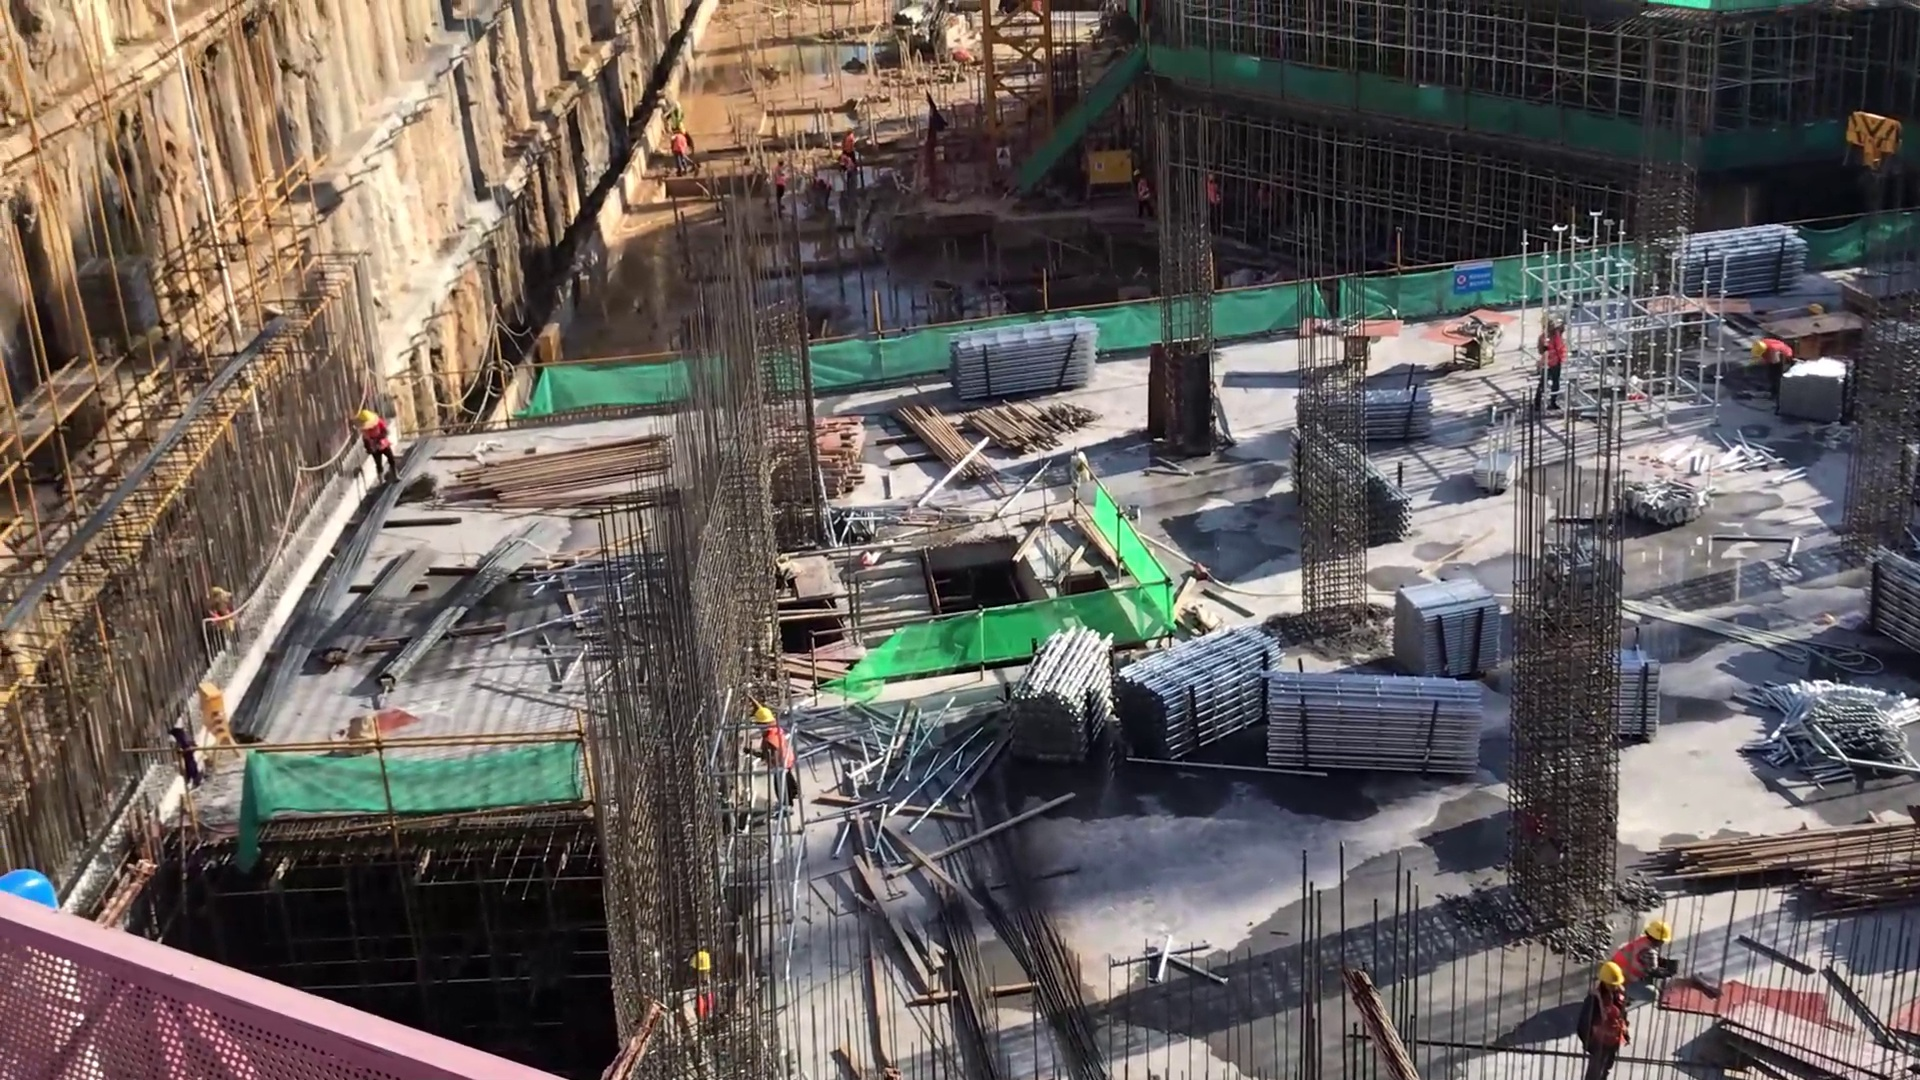cutter: (1417, 304, 1521, 373), (1294, 314, 1406, 371)
ebox: (1084, 143, 1155, 205)
helmet: (1586, 960, 1629, 995), (1639, 916, 1671, 948), (685, 948, 717, 977), (1538, 307, 1568, 338), (749, 699, 778, 730), (1747, 339, 1775, 371)
hook: (1843, 107, 1900, 193)
person: (1571, 953, 1637, 1080), (750, 703, 808, 825), (1610, 920, 1679, 1012), (347, 399, 407, 487), (1528, 306, 1576, 413), (1742, 327, 1803, 399)
scaffold: (1260, 664, 1496, 780), (1113, 621, 1290, 770), (1003, 621, 1124, 769), (940, 307, 1106, 406), (1388, 569, 1501, 687), (1675, 221, 1808, 302), (1849, 538, 1919, 662), (1361, 384, 1436, 442)
vest: (1576, 992, 1629, 1055), (1608, 934, 1651, 991), (758, 727, 796, 777), (358, 416, 390, 459), (1536, 332, 1569, 373), (1764, 335, 1799, 371)
